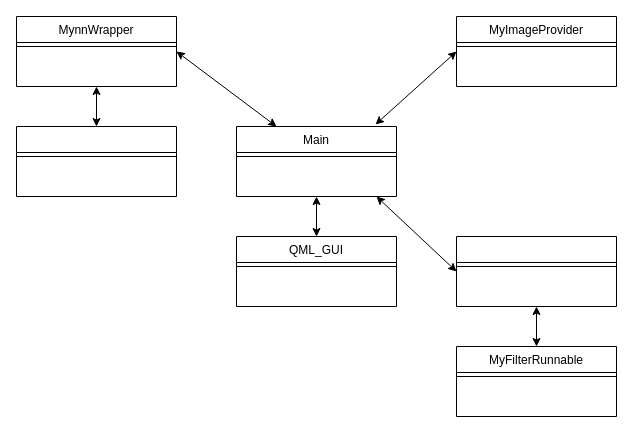
The diagram is 633 pixels wide and 433 high, and some of its shapes have lost their labels. The shapes that lost their labels are listed below. From the top down, each one's centre as x and y in pixels, then its label:
At pixel 96 161: "Mynn".
At pixel 536 271: "MyFilter".
